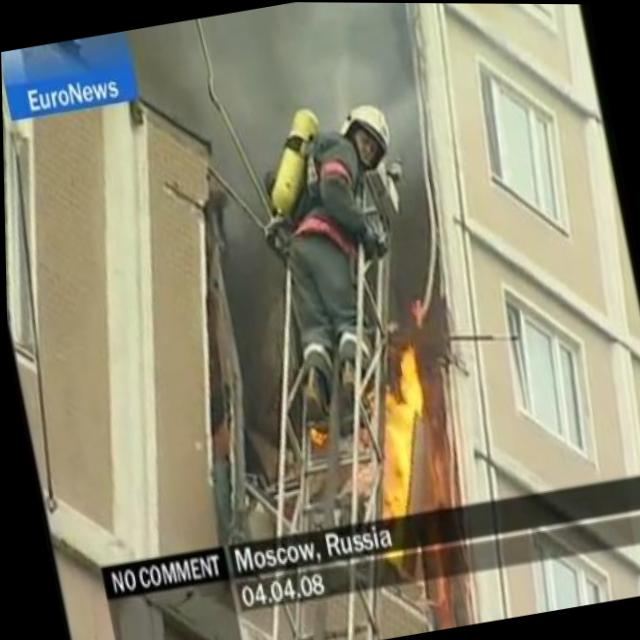fire: (352, 335, 449, 517), (305, 422, 328, 448)
